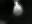person: (13, 1, 24, 18)
